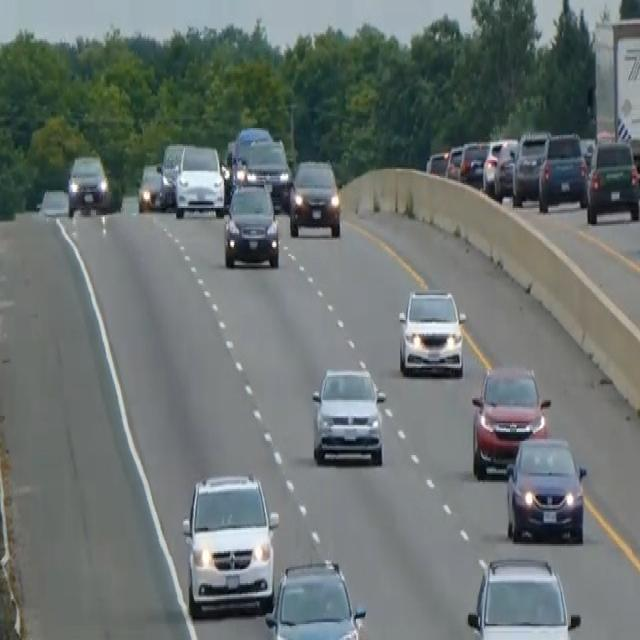car: (466, 555, 581, 638), (470, 361, 550, 478), (505, 436, 587, 544), (264, 556, 366, 638), (310, 364, 386, 466), (397, 286, 466, 377), (222, 176, 280, 268), (585, 137, 639, 224), (288, 156, 341, 238), (537, 130, 588, 212), (174, 142, 225, 219), (245, 138, 292, 210), (511, 128, 550, 204), (66, 151, 110, 215), (482, 137, 518, 199), (136, 160, 168, 212), (159, 140, 184, 204), (458, 138, 489, 186), (425, 148, 449, 178), (445, 144, 463, 180)
lorry: (590, 14, 639, 174), (230, 125, 273, 183)
minivan: (181, 469, 279, 619)
